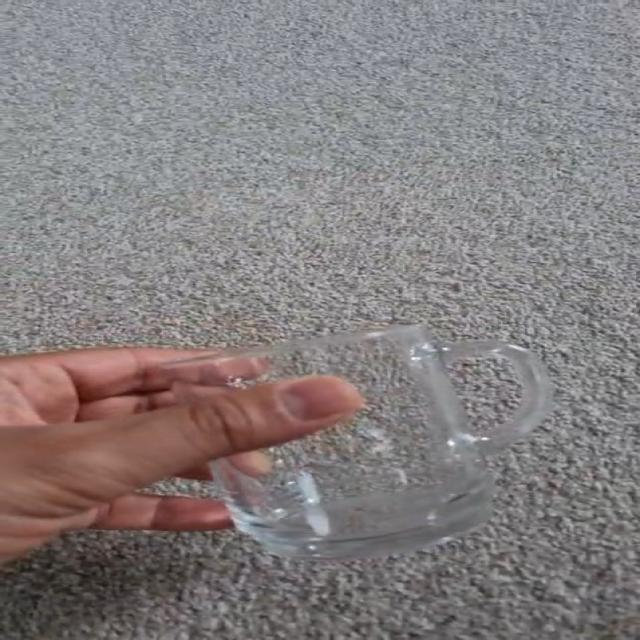Cup: (136, 312, 574, 577)
